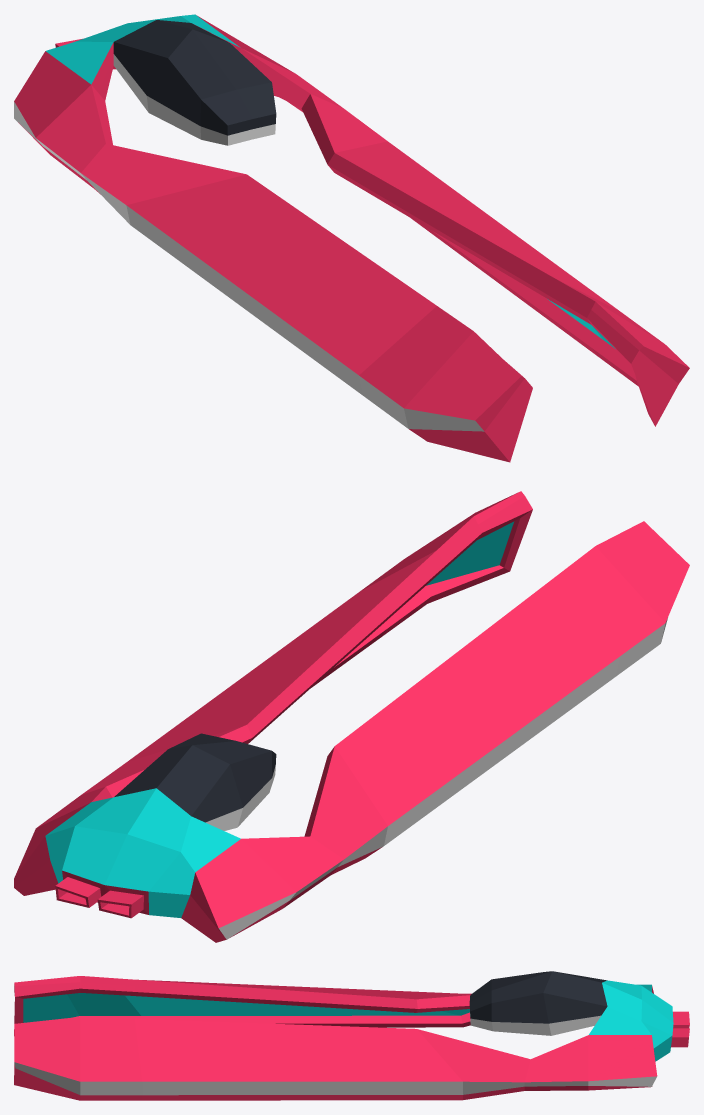
The model's file is Qirex.fbx.
3 renders of one model, top to bottom at view 1: azimuth 30°, elevation 25°; view 2: azimuth 150°, elevation 25°; view 3: azimuth 270°, elevation 25°, orthographic. The views are drawn at different scales.
Visible parts, largest first — view 1: ship 2; view 2: ship 2; view 3: ship 2.
Part boxes in pixels (x1,y1,x2,y2): ship 2: [14, 14, 689, 462]; ship 2: [14, 491, 689, 942]; ship 2: [14, 971, 689, 1100].
Bounding box in the file's own units: 400 × 197 × 1290.
